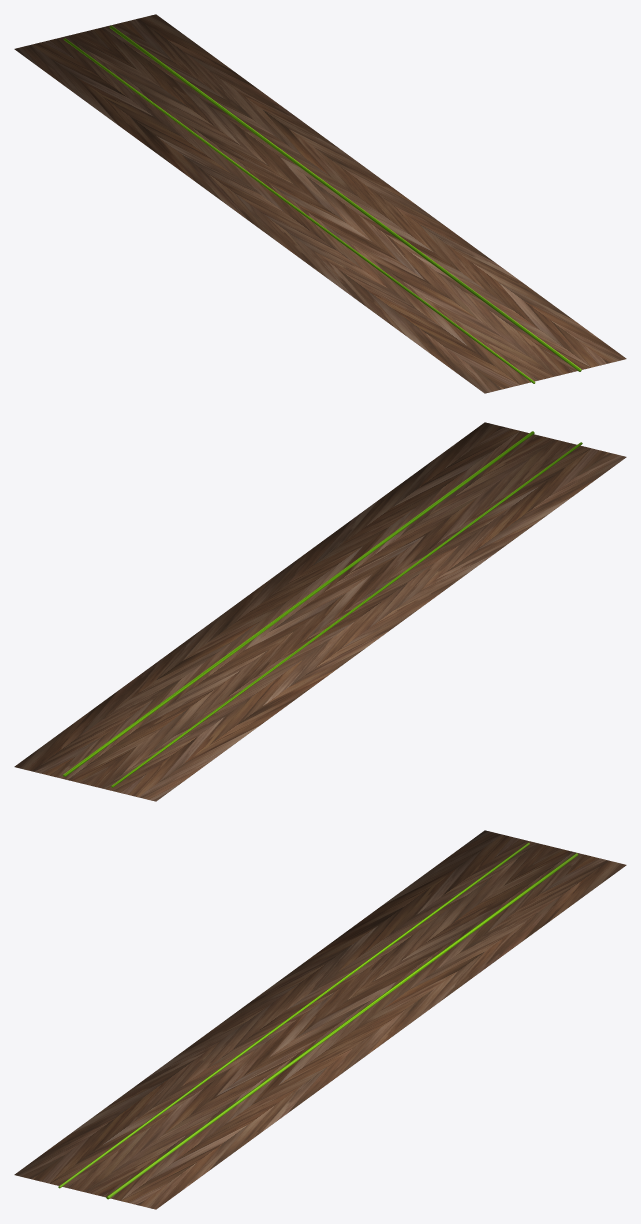
The model's file is baordSmall.obj.
The picture shows the model from 3 angles, top to bottom: view 1: azimuth 30°, elevation 25°; view 2: azimuth 150°, elevation 25°; view 3: azimuth 330°, elevation 25°; orthographic projection.
Visible parts, largest first — view 1: Box001, Cylinder002, Cylinder001; view 2: Box001, Cylinder002, Cylinder001; view 3: Box001, Cylinder002, Cylinder001.
Part boxes in pixels (x1,y1,x2,y2): Box001: (14, 14, 626, 393); Cylinder002: (109, 25, 581, 371); Cylinder001: (63, 38, 535, 383); Box001: (14, 422, 626, 801); Cylinder002: (62, 431, 534, 776); Cylinder001: (111, 442, 582, 787); Box001: (14, 830, 626, 1209); Cylinder002: (106, 853, 578, 1199); Cylinder001: (58, 842, 529, 1188).
Size of the model in its own units: 1742 by 33.95 by 10042.
